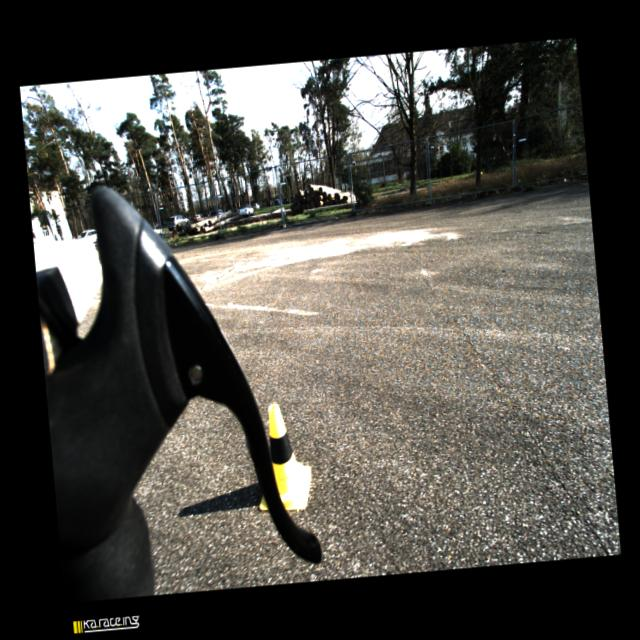yellow_cone: (249, 399, 314, 514)
